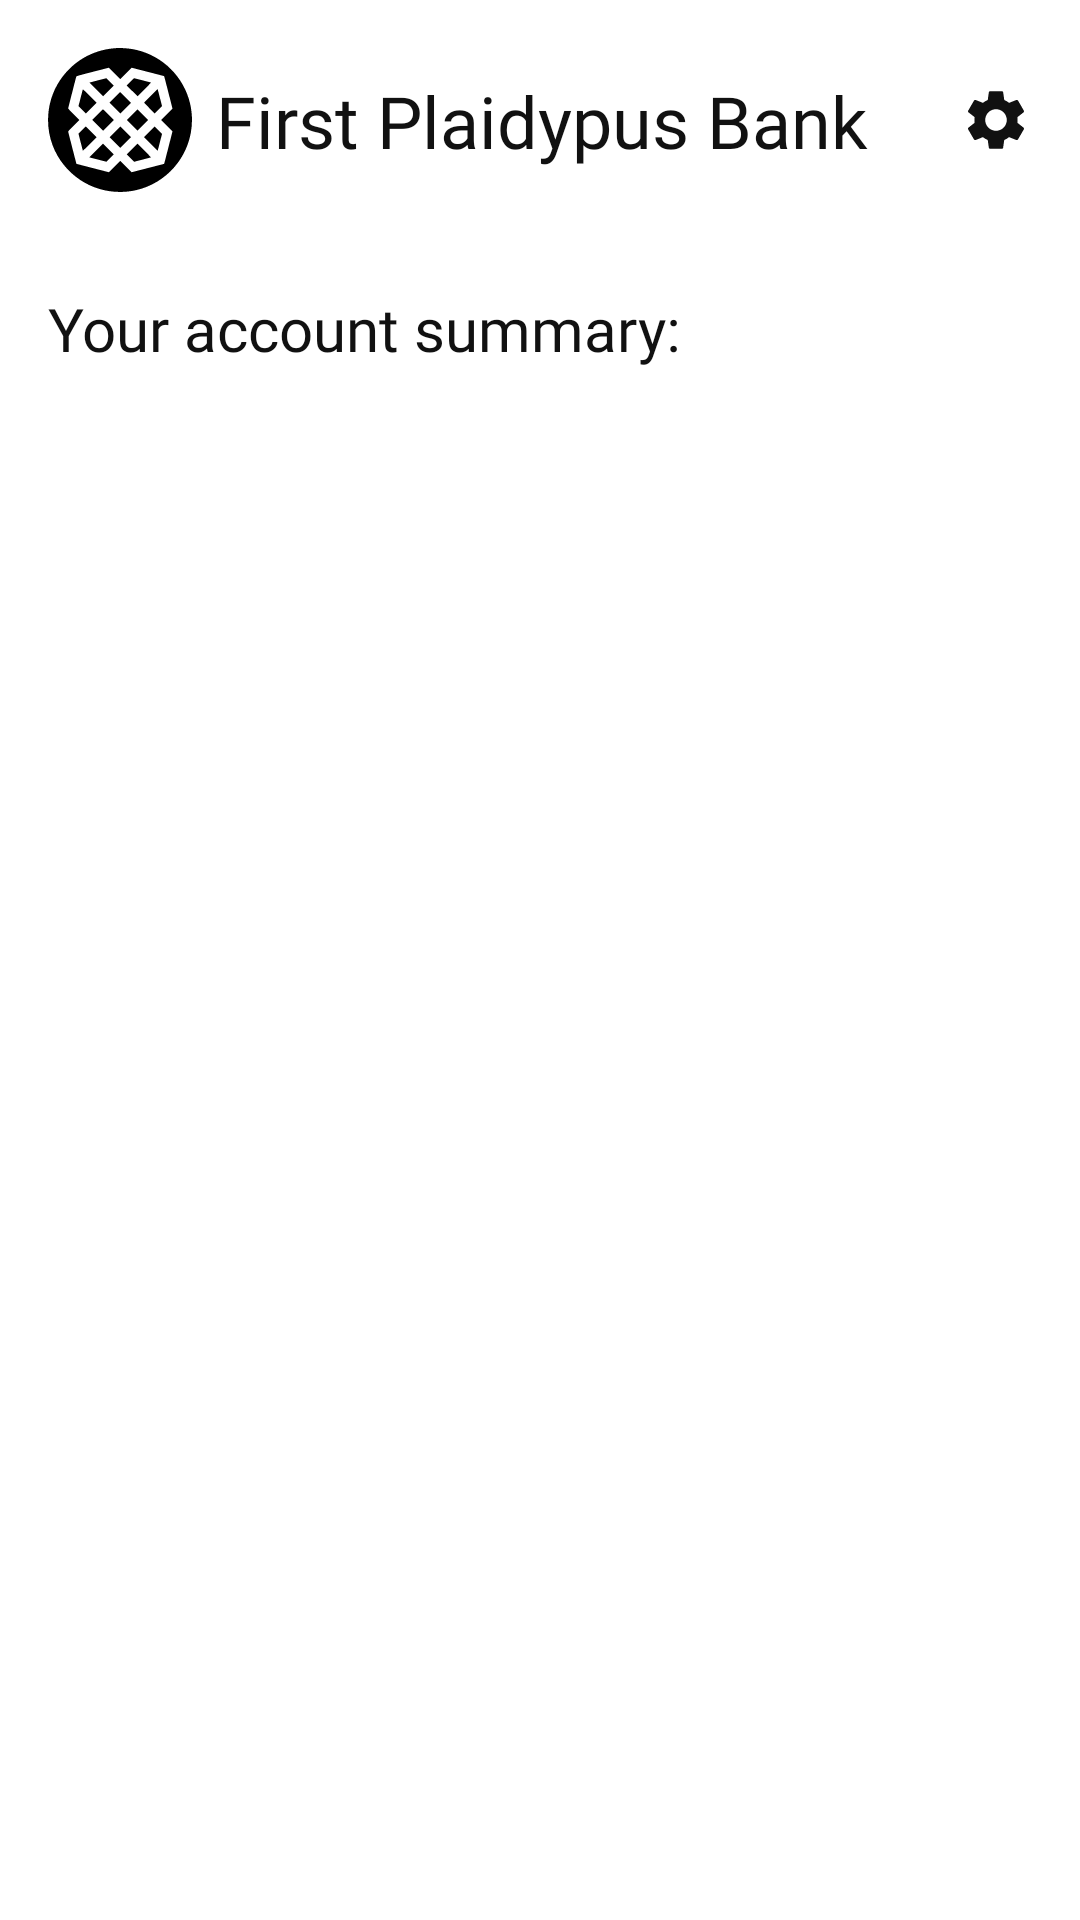

Named icons in this screenshot (1080 × 1920) and their bounding boxes, bbox=(x1, y1, x2, y2):
settings: bbox=(968, 91, 1024, 149)
